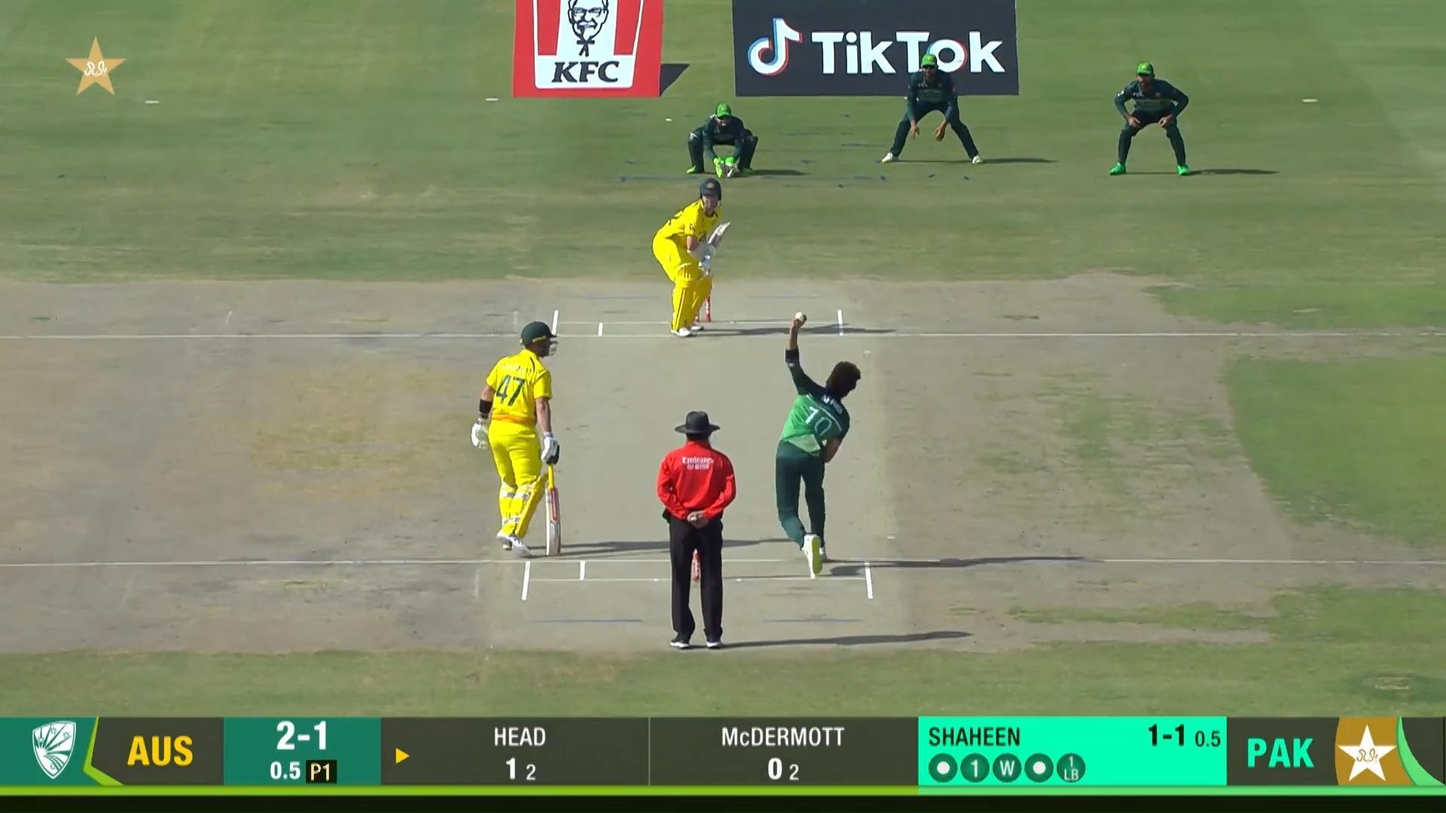BM 1: (651, 177, 734, 338)
BO: (775, 311, 861, 577)
